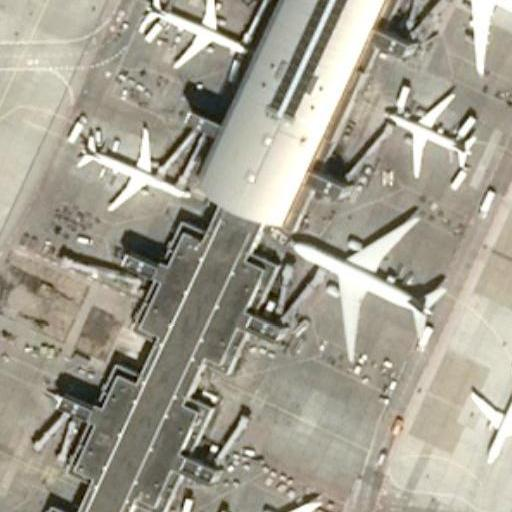Aircraft: (285, 210, 443, 359), (77, 124, 190, 207), (381, 90, 476, 181), (138, 0, 246, 69), (416, 0, 512, 72), (467, 362, 512, 464), (150, 495, 338, 512)
